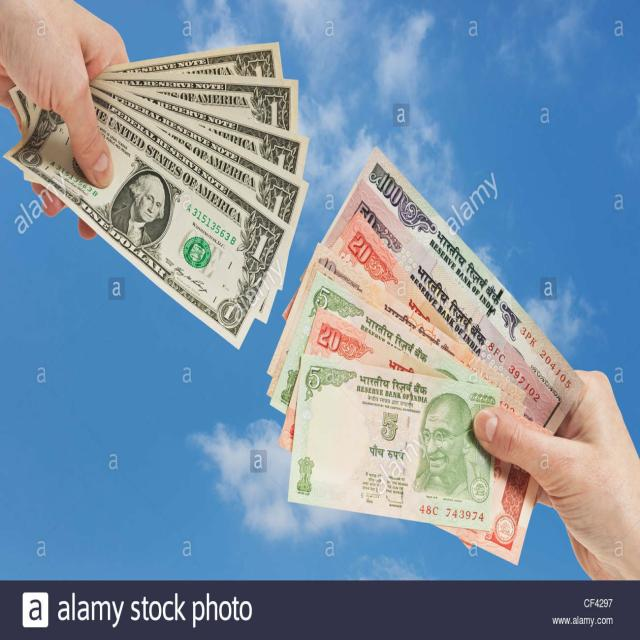5IndianRupees: (295, 353, 507, 533)
